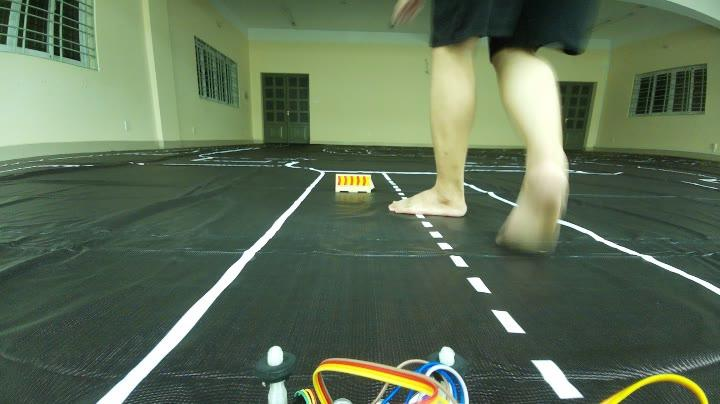roadblock: (328, 169, 381, 197)
